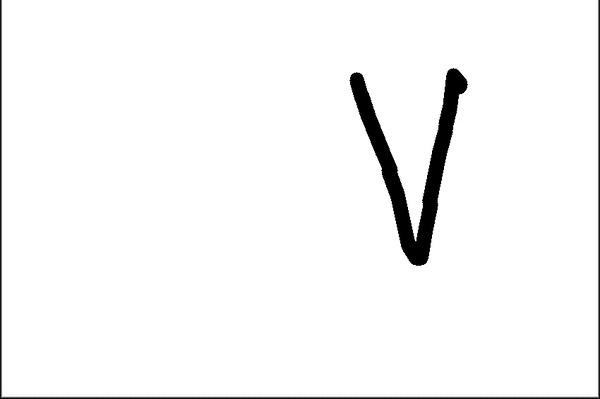V: (341, 58, 476, 271)
